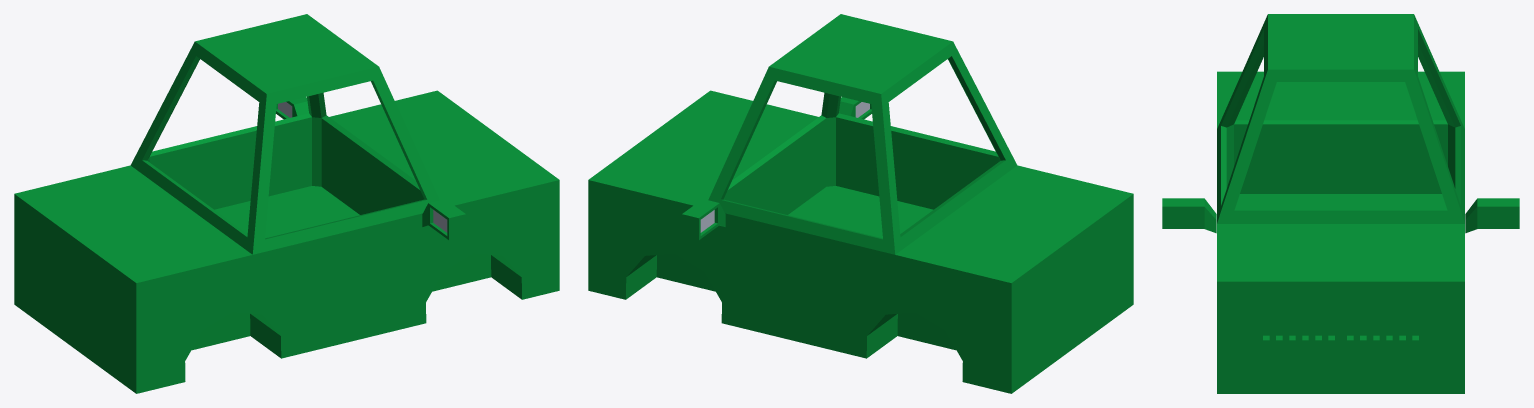
Rendered from Car.glb.
3 renders of one model, left to right at view 1: azimuth 30°, elevation 25°; view 2: azimuth 150°, elevation 25°; view 3: azimuth 270°, elevation 25°, orthographic.
Visible parts, largest first — view 1: Cube.089; view 2: Cube.089; view 3: Cube.089.
Part boxes in pixels (bbox=[...]): Cube.089: bbox=[14, 14, 559, 393]; Cube.089: bbox=[588, 14, 1133, 393]; Cube.089: bbox=[1162, 14, 1519, 393].
Size of the model in its own units: 0.129 by 0.0709 by 0.0929.
Materials: 1 (1 with a texture image).
